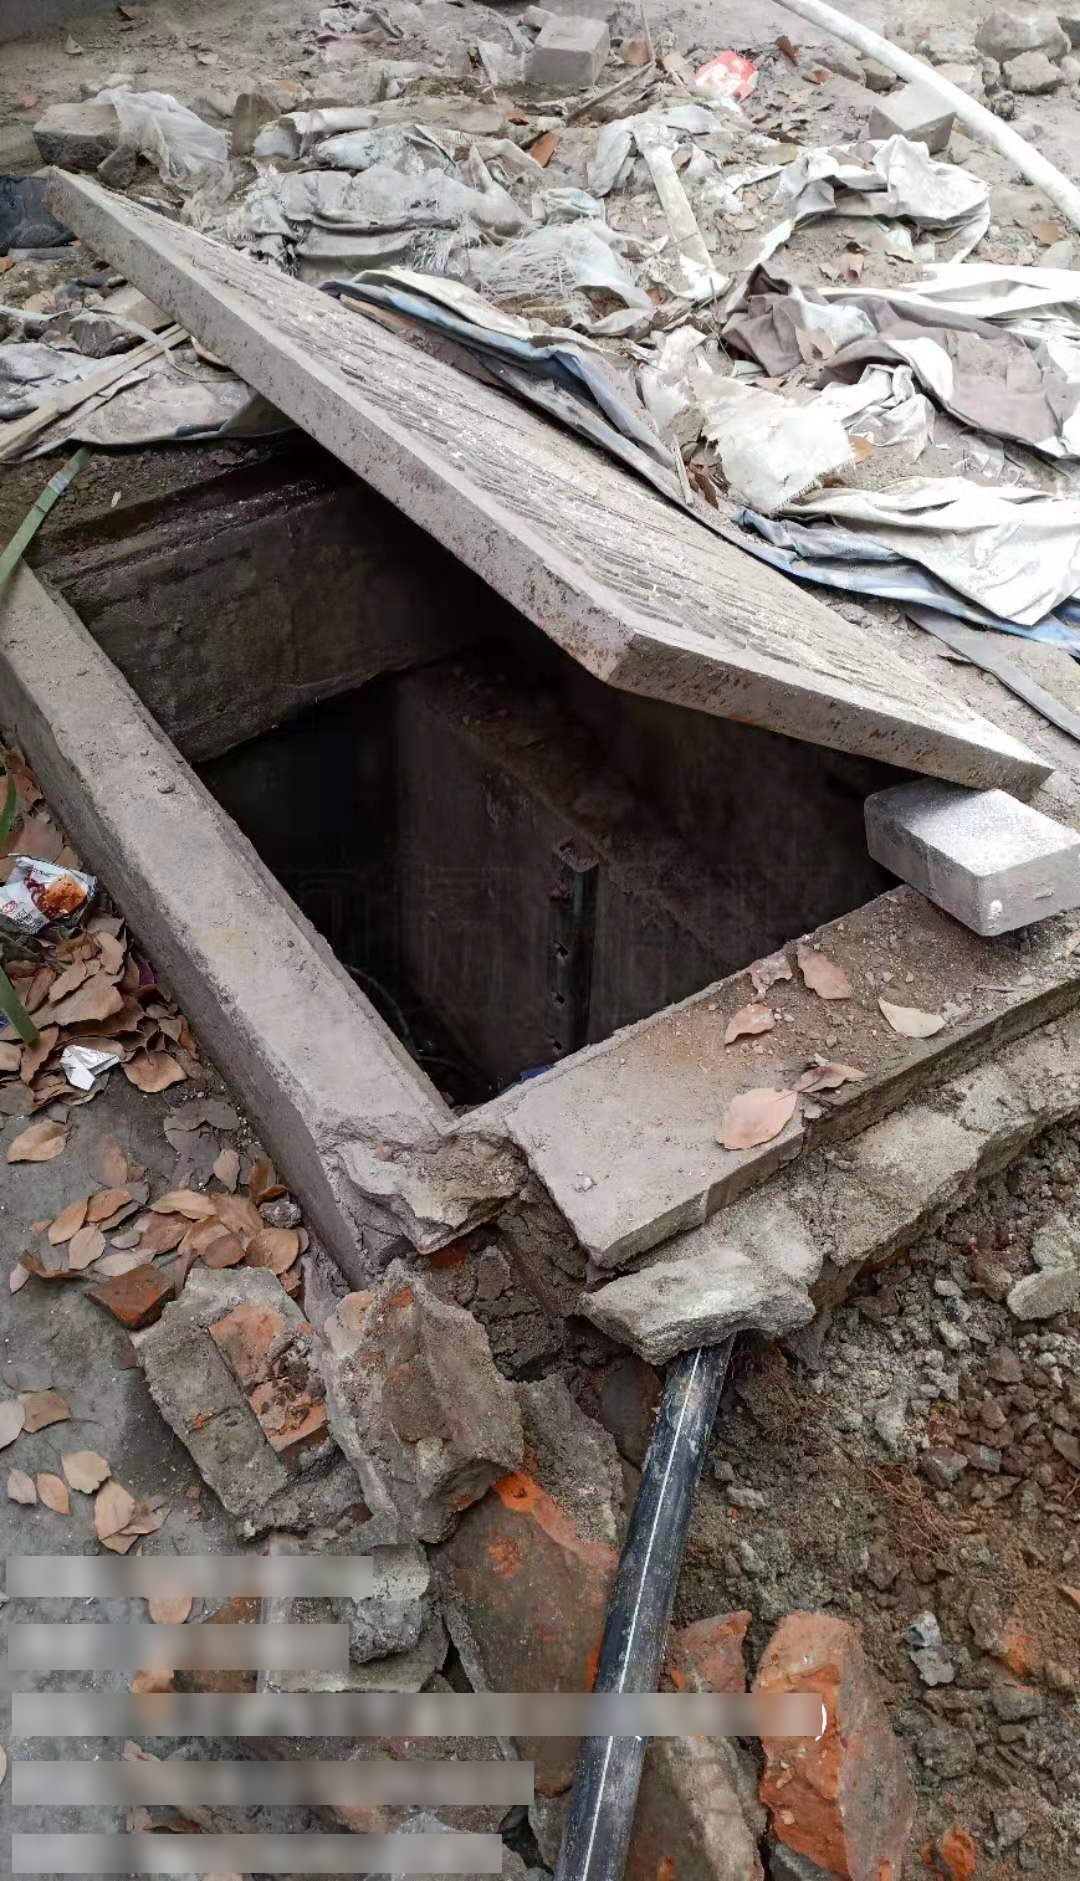uncovered: (3, 151, 1080, 1329)
